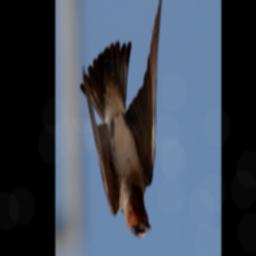Swallow: (80, 0, 162, 238)
